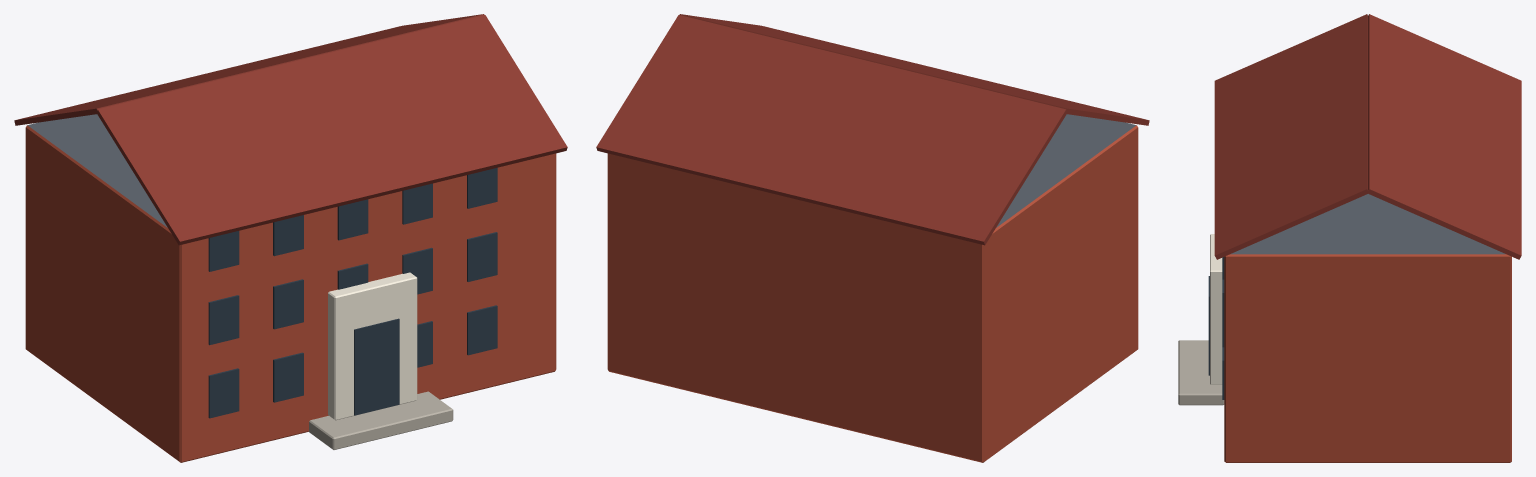
Rendered from hall_m.fbx.
3 views of the same model, side by side, from view 1: azimuth 30°, elevation 25°; view 2: azimuth 150°, elevation 25°; view 3: azimuth 270°, elevation 25° (orthographic). The views are drawn at different scales.
Visible parts, largest first — view 1: hall_m; view 2: hall_m; view 3: hall_m.
Part boxes in pixels (x1,y1,x2,y2): hall_m: (14,14,567,462); hall_m: (596,14,1149,462); hall_m: (1178,14,1521,462).
Bounding box in the file's own units: 14.4 × 10.63 × 11.93.
